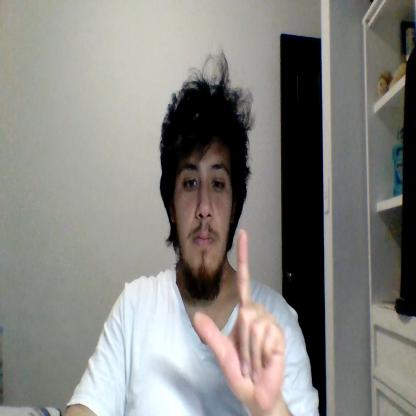L: (194, 227, 286, 411)
